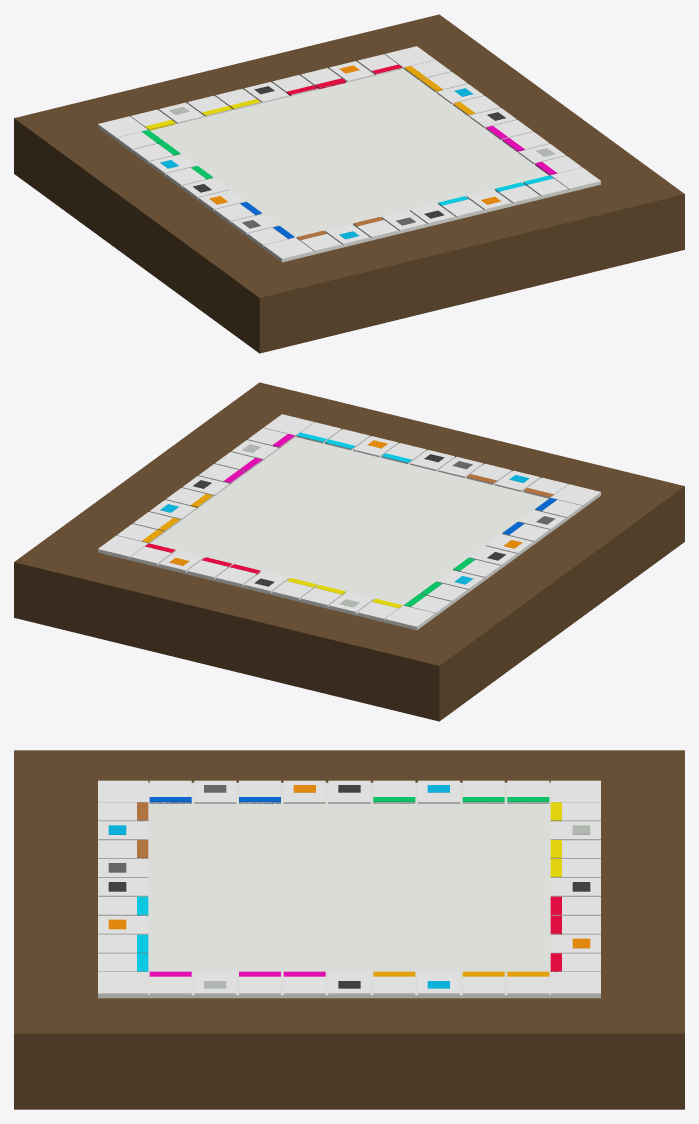
File: tablero.glb
The picture shows the model from 3 angles, top to bottom: view 1: azimuth 30°, elevation 25°; view 2: azimuth 150°, elevation 25°; view 3: azimuth 270°, elevation 25°; orthographic projection. The views are drawn at different scales.
Visible parts, largest first — view 1: Table_Base, Board_Center, Tile_00_CornerMesh, Tile_10_CornerMesh, Tile_30_CornerMesh, Tile_20_CornerMesh; view 2: Table_Base, Board_Center, Tile_30_CornerMesh, Tile_20_CornerMesh, Tile_00_CornerMesh, Tile_10_CornerMesh; view 3: Table_Base, Board_Center, Tile_10_CornerMesh, Tile_20_CornerMesh, Tile_00_CornerMesh, Tile_30_CornerMesh, Tile_15_Base, Tile_35_Base, Tile_12_Base, Tile_36_Base, Tile_38_Base, Tile_22_Base (+30 smaller).
Boxes of the visible parts, bbox=[...] form: Table_Base: bbox=[14, 14, 684, 353]; Board_Center: bbox=[98, 62, 600, 262]; Tile_00_CornerMesh: bbox=[263, 237, 313, 260]; Tile_10_CornerMesh: bbox=[550, 167, 600, 189]; Tile_30_CornerMesh: bbox=[98, 116, 147, 138]; Tile_20_CornerMesh: bbox=[385, 46, 435, 68]; Table_Base: bbox=[14, 382, 684, 721]; Board_Center: bbox=[98, 430, 600, 630]; Tile_30_CornerMesh: bbox=[385, 605, 435, 628]; Tile_20_CornerMesh: bbox=[98, 535, 148, 557]; Tile_00_CornerMesh: bbox=[551, 484, 600, 506]; Tile_10_CornerMesh: bbox=[263, 414, 313, 436]; Table_Base: bbox=[14, 750, 684, 1109]; Board_Center: bbox=[98, 782, 600, 998]; Tile_10_CornerMesh: bbox=[98, 972, 148, 995]; Tile_20_CornerMesh: bbox=[550, 972, 600, 995]; Tile_00_CornerMesh: bbox=[98, 780, 148, 802]; Tile_30_CornerMesh: bbox=[550, 780, 600, 802]; Tile_15_Base: bbox=[328, 972, 370, 995]; Tile_35_Base: bbox=[328, 780, 370, 803]; Tile_12_Base: bbox=[194, 972, 236, 995]; Tile_36_Base: bbox=[283, 780, 325, 803]; Tile_38_Base: bbox=[194, 780, 236, 803]; Tile_22_Base: bbox=[550, 934, 600, 953].
Bounding box in the file's own units: 6 × 0.802 × 6.
